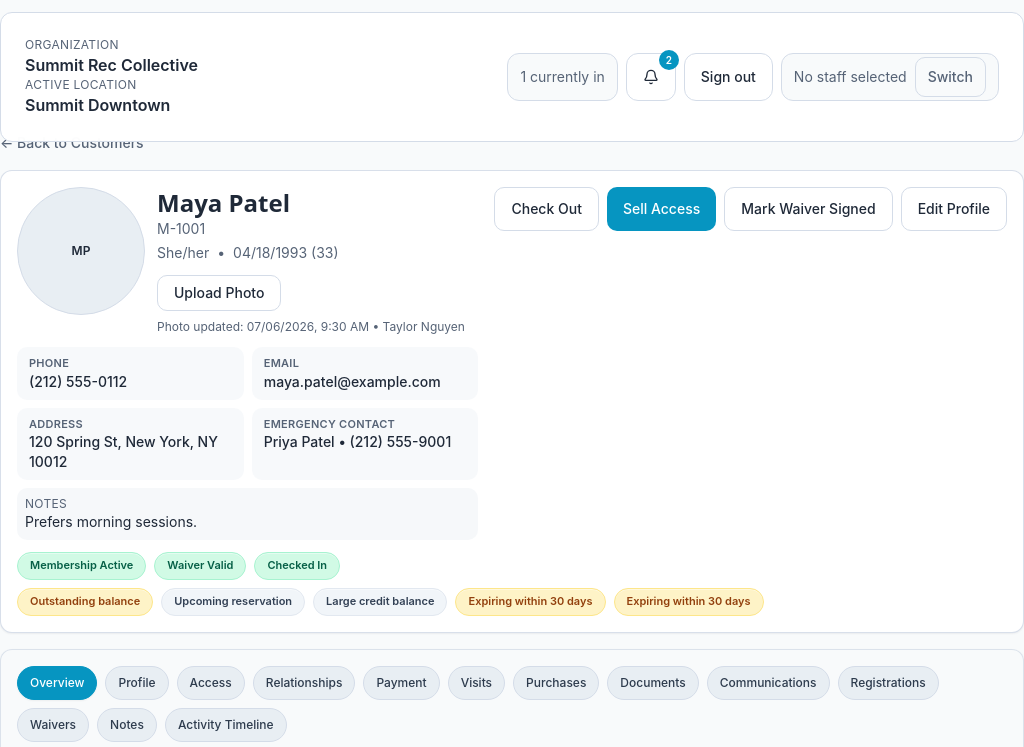
CustomerDetailPage › documents section supports upload and archive
The width and height of the screenshot is (1024, 747).
Click the button "Switch": (950, 77) [915, 57, 986, 97]
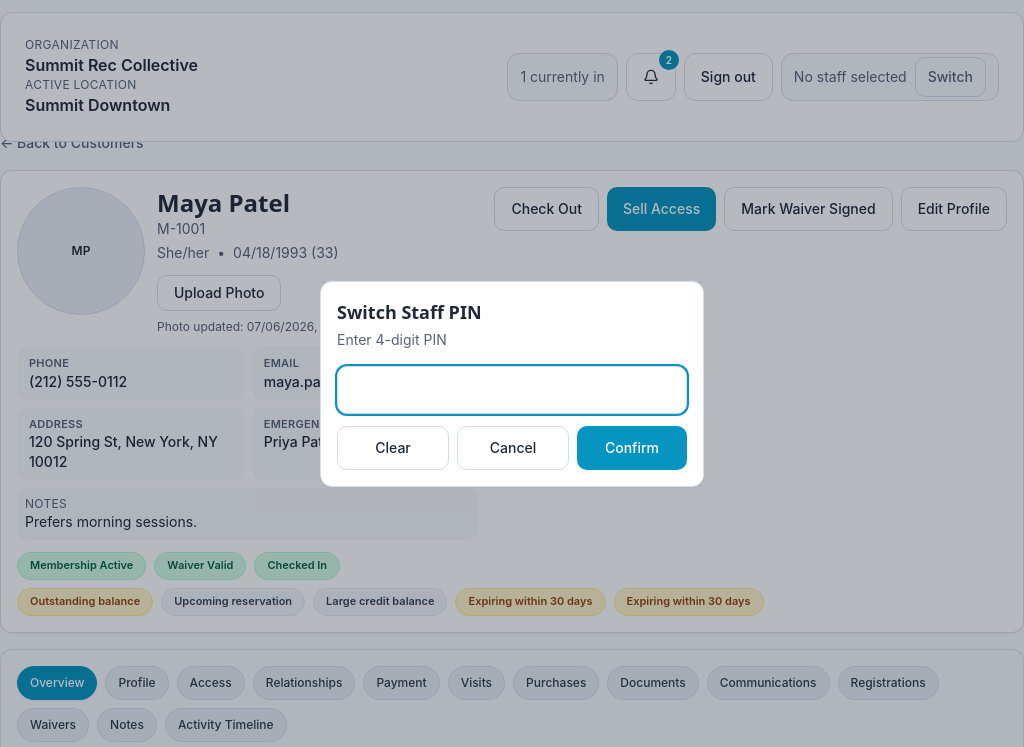
In the password field named "Staff PIN input": (512, 390) [337, 366, 687, 414], type "2222"
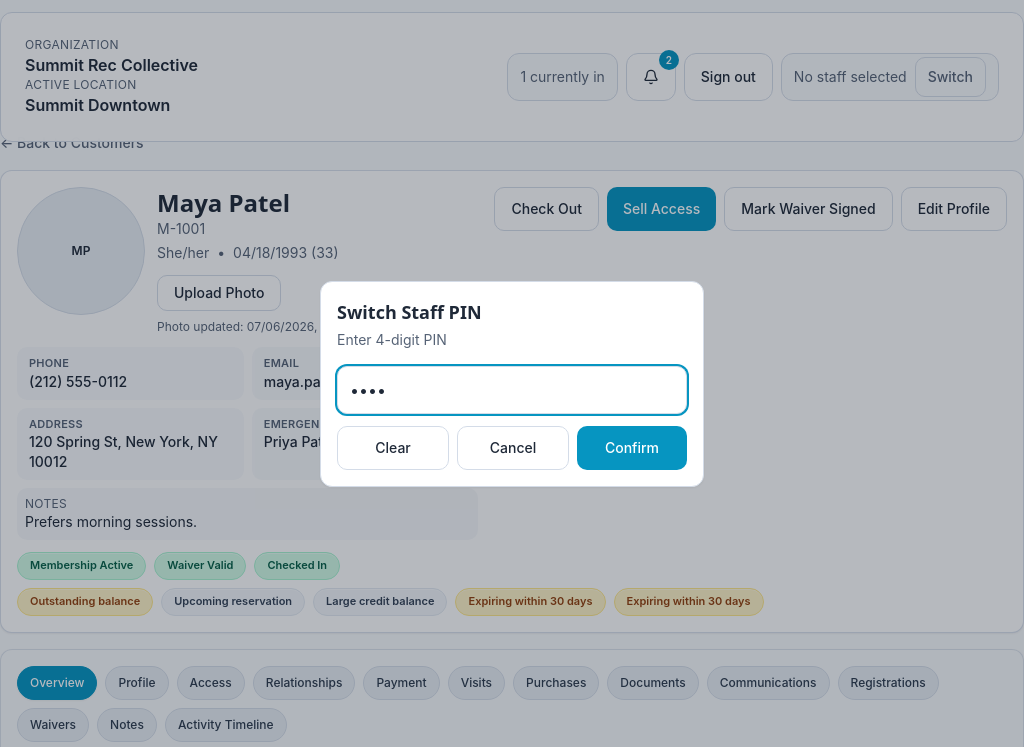
Click the button "Confirm": (632, 448) [577, 426, 687, 470]
(page scrolled)
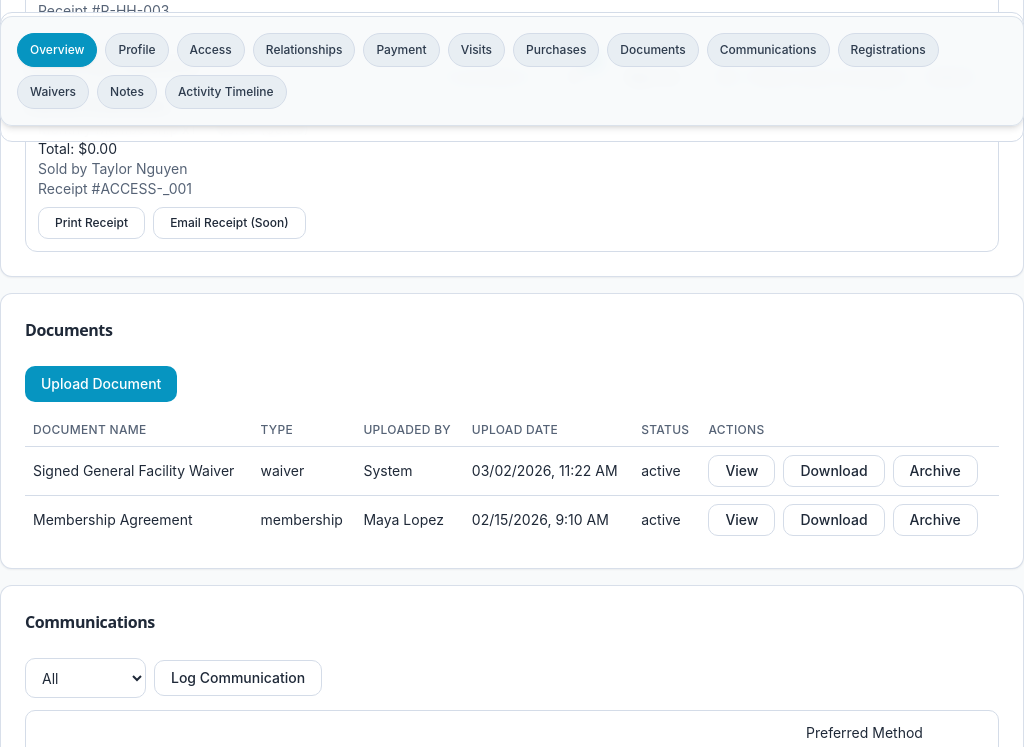
Click the button "Upload Document": (101, 384) [25, 366, 177, 402]
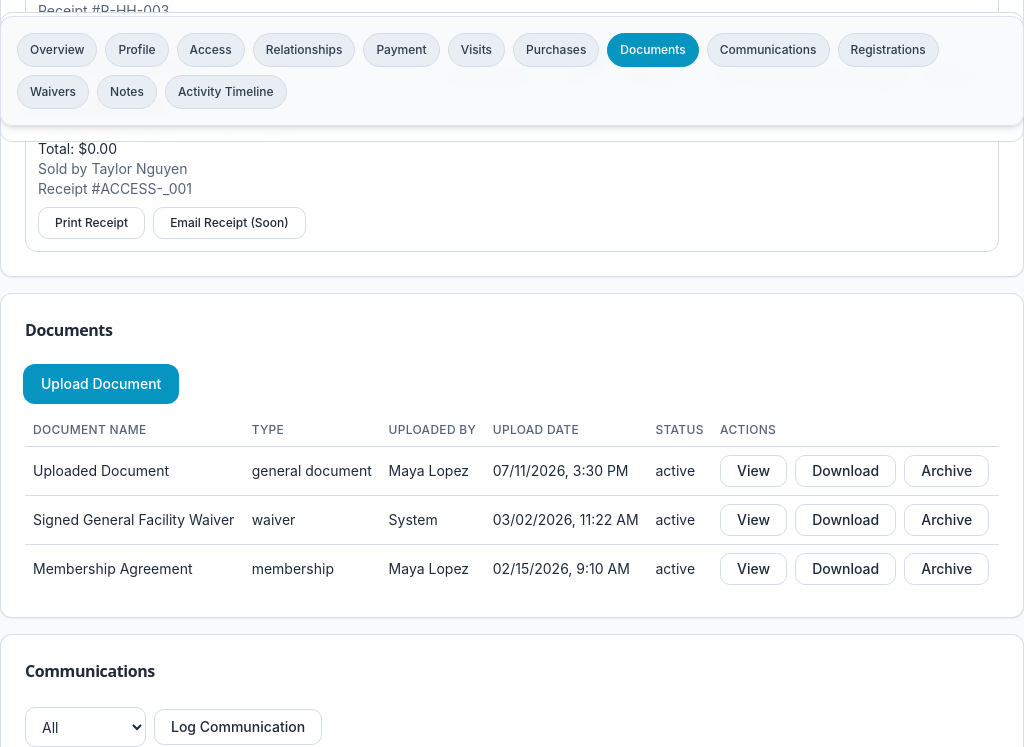
Now the element named "detail-documents" shows "Uploaded Document", box [33, 462, 169, 479]
Click the 1st button "Archive": (947, 471) [904, 455, 989, 487]
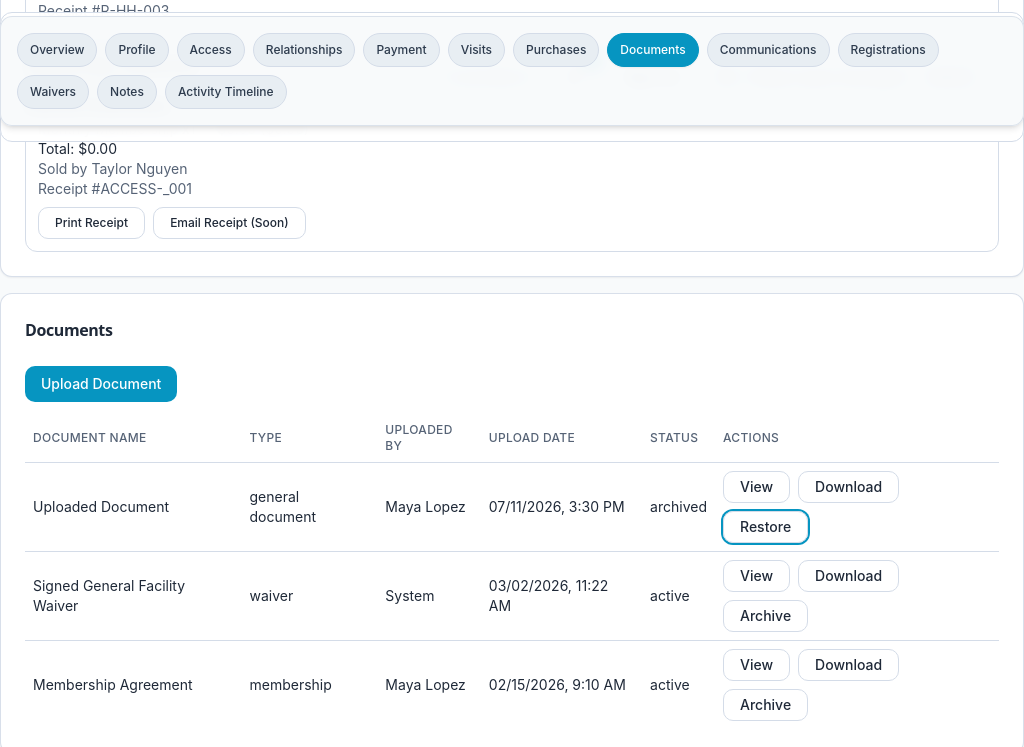
Now the element named "detail-documents" shows "archived", box [650, 498, 707, 515]
